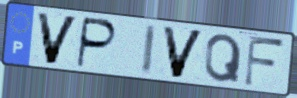F: (242, 34, 287, 89)
I: (140, 23, 159, 77)
P: (74, 15, 119, 70)
Q: (203, 33, 243, 85)
V: (160, 24, 207, 80), (34, 10, 81, 66)
